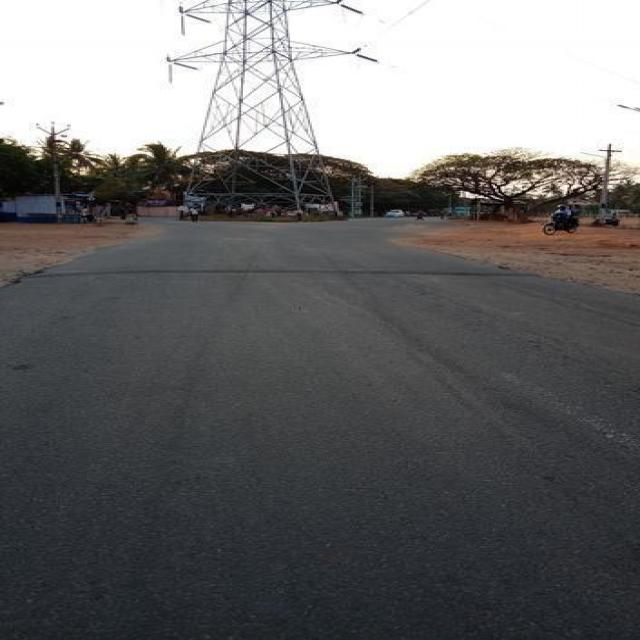NonMarked Bump: (54, 260, 535, 290)
